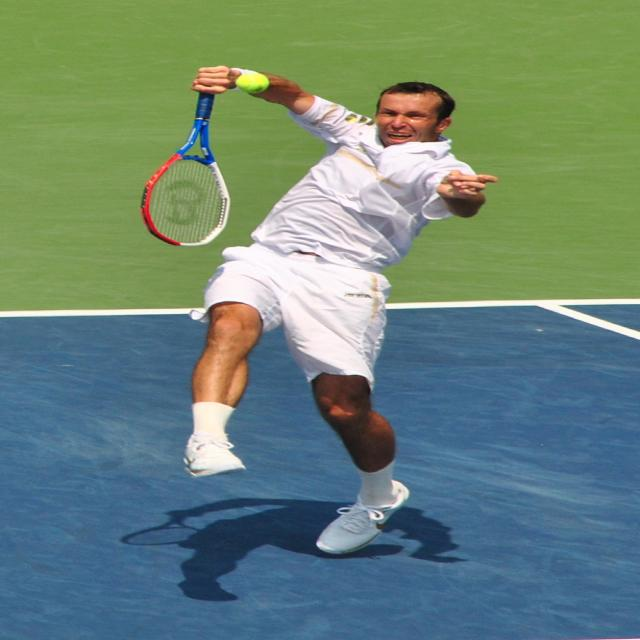Tennis ball: (236, 72, 268, 94)
